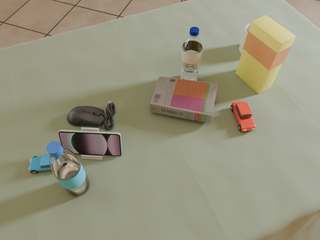book: (150, 77, 218, 123)
bottle: (47, 141, 90, 196), (180, 27, 203, 81)
box: (236, 15, 296, 94)
mouse: (67, 101, 115, 130)
phone: (58, 130, 122, 156)
toy_car: (231, 101, 256, 131), (29, 154, 51, 173)
